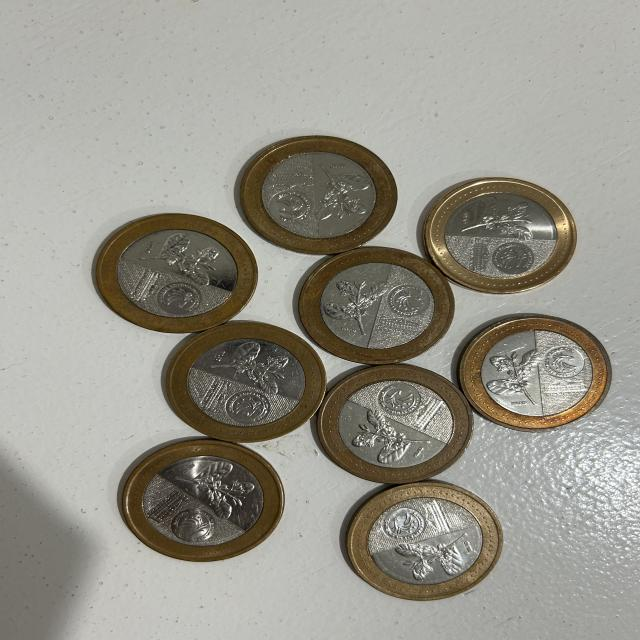20_New_Back: (204, 343, 293, 395), (308, 160, 371, 229), (141, 234, 226, 282), (182, 462, 256, 517), (358, 410, 434, 462), (323, 274, 388, 332), (464, 194, 534, 245), (398, 536, 471, 578), (487, 349, 539, 407)
